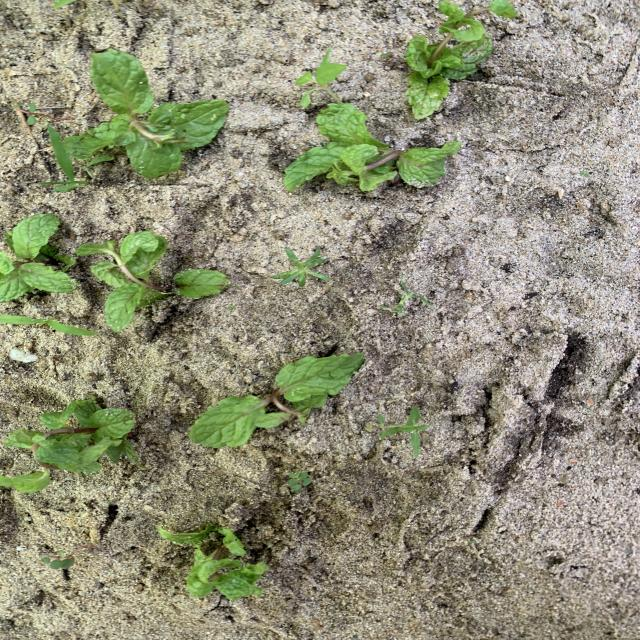crop: (63, 51, 227, 177), (189, 355, 363, 447), (284, 103, 459, 191), (76, 231, 229, 330), (0, 399, 139, 492), (406, 1, 501, 118), (159, 525, 268, 599), (1, 214, 75, 300)
weed: (40, 124, 87, 192), (295, 50, 346, 108), (377, 407, 428, 458), (274, 248, 329, 287), (0, 314, 96, 335), (381, 276, 428, 317), (41, 545, 87, 569), (10, 102, 51, 126), (288, 472, 311, 491), (580, 172, 590, 177), (380, 52, 391, 56)
